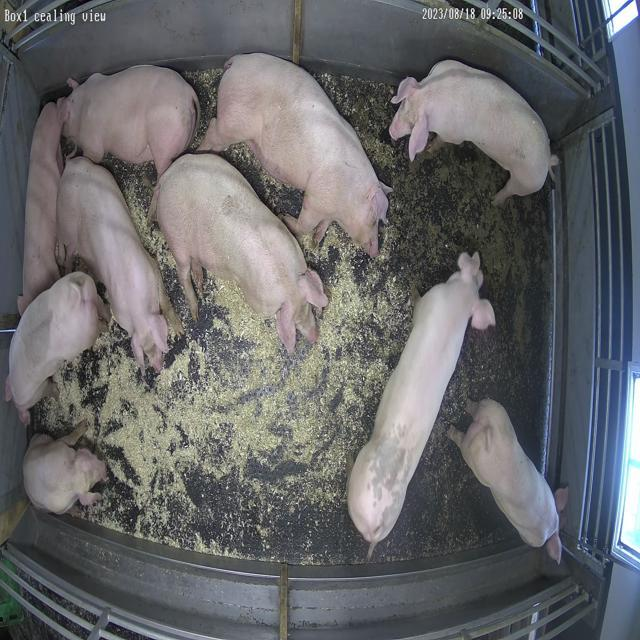Dirt: (320, 73, 553, 563)
Pig: (348, 253, 496, 558), (198, 53, 390, 256), (152, 154, 328, 352), (56, 157, 181, 370), (390, 60, 556, 204), (450, 399, 560, 548), (61, 65, 199, 174), (5, 272, 103, 424), (17, 102, 62, 314), (23, 425, 106, 514)
